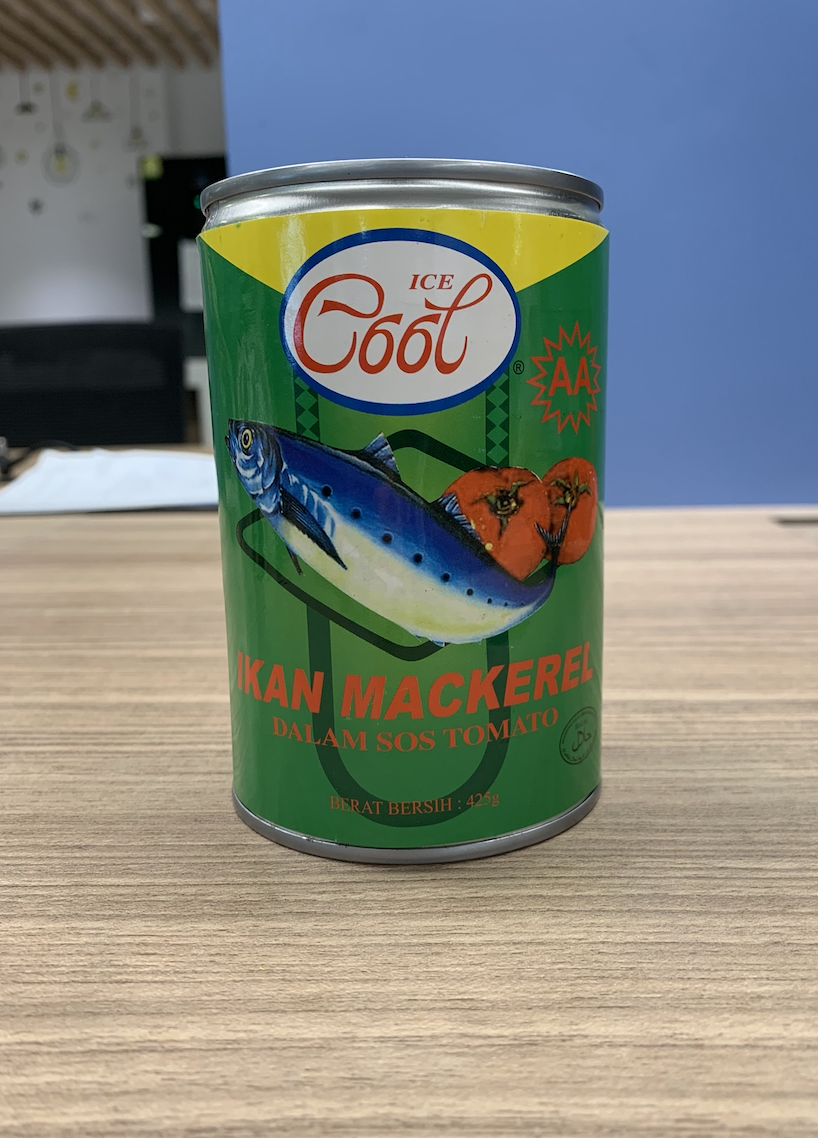sardines_400g-499g: (227, 231, 598, 822)
